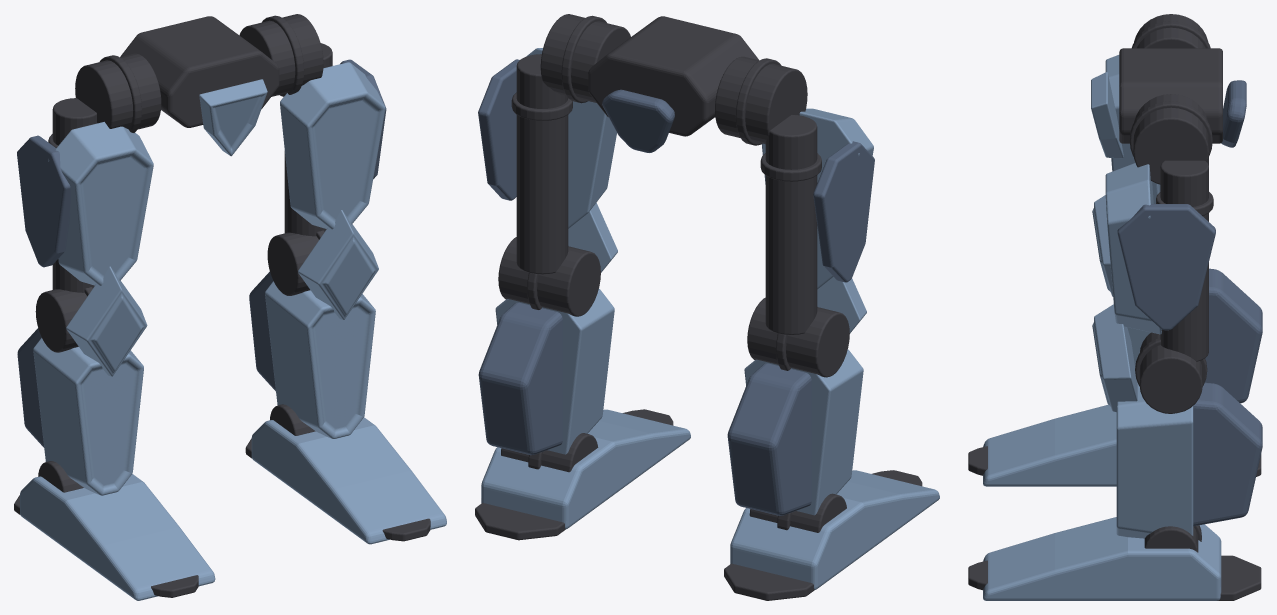
Rendered from recon_sleek_legs.glb.
3 renders of one model, left to right at view 1: azimuth 30°, elevation 25°; view 2: azimuth 150°, elevation 25°; view 3: azimuth 270°, elevation 25°, orthographic. The views are drawn at different scales.
Parts seen in each view (by area): view 1: FootL, FootR, ThighL, ShinR, ShinL, ThighR, Pelvis, ThighSideR, HipJointR, KneePadR, KneePadL, HipJointL (+11 smaller); view 2: FootL, FootR, ThighFrameR, CalfR, CalfL, Pelvis, ThighFrameL, ShinL, ShinR, ThighSideR, HipJointR, HipJointL (+12 smaller); view 3: FootL, ShinL, ThighSideL, FootR, CalfL, Pelvis, CalfR, HipJointL, ThighFrameL, ThighL, KneeJointL, KneePadL (+9 smaller).
Boxes of the visible parts, box(x1,y1,x2,y2) form: FootL: box(251, 417, 446, 544); FootR: box(20, 474, 215, 600); ThighL: box(280, 62, 385, 229); ShinR: box(33, 338, 143, 495); ShinL: box(265, 281, 375, 438); ThighR: box(48, 121, 153, 285); Pelvis: box(120, 16, 279, 127); ThighSideR: box(17, 135, 70, 267); HipJointR: box(75, 53, 161, 132); KneePadR: box(66, 266, 147, 376); KneePadL: box(298, 210, 378, 319); HipJointL: box(239, 14, 323, 96); FootL: box(481, 409, 690, 529); FootR: box(730, 470, 939, 589); ThighFrameR: box(760, 115, 821, 334); CalfR: box(727, 363, 811, 515); CalfL: box(478, 302, 562, 455); Pelvis: box(588, 16, 758, 136); ThighFrameL: box(511, 54, 572, 274); ShinL: box(495, 289, 614, 454); ShinR: box(744, 349, 863, 515); ThighSideR: box(813, 141, 874, 282); HipJointR: box(715, 56, 807, 145); HipJointL: box(540, 14, 630, 103); FootL: box(983, 517, 1221, 600); ShinL: box(1116, 383, 1193, 538); ThighSideL: box(1117, 204, 1215, 330); FootR: box(983, 404, 1116, 486); CalfL: box(1193, 382, 1262, 526); Pelvis: box(1119, 48, 1222, 143); CalfR: box(1205, 268, 1262, 403); HipJointL: box(1129, 94, 1212, 184); ThighFrameL: box(1156, 160, 1213, 361); ThighL: box(1105, 163, 1161, 334); KneeJointL: box(1135, 332, 1207, 413); KneePadL: box(1092, 304, 1137, 412).
Bounding box in the file's own units: 4.19 × 5.66 × 3.26.
